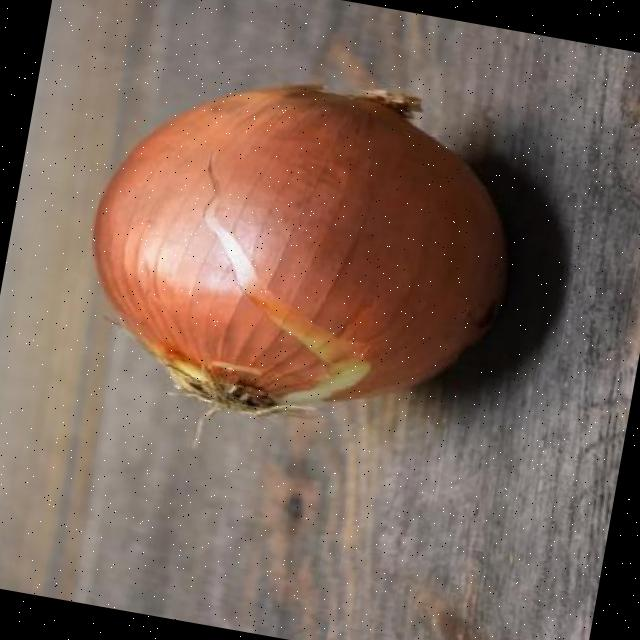Onion: (93, 83, 508, 413)
